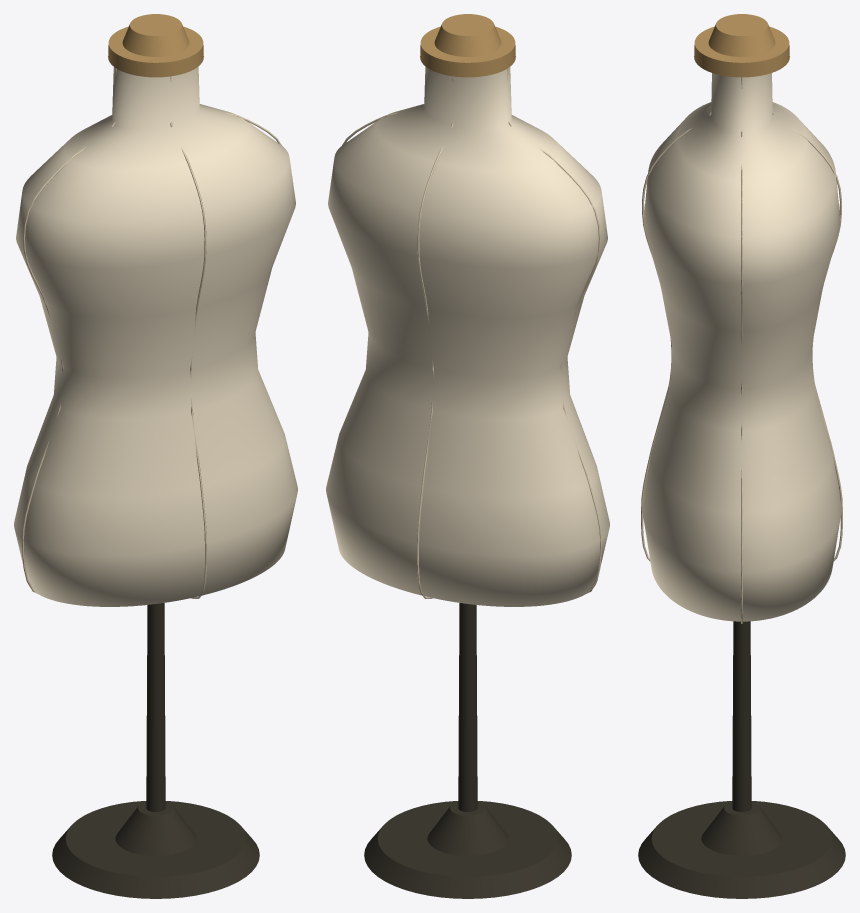
File: atelier-dress-form.glb
3 views of the same model, side by side, from view 1: azimuth 30°, elevation 25°; view 2: azimuth 150°, elevation 25°; view 3: azimuth 270°, elevation 25° (orthographic).
Parts seen in each view (by area): view 1: atelier-dress-form-body, atelier-dress-form-stand, atelier-dress-form-cap, atelier-dress-form-seams; view 2: atelier-dress-form-body, atelier-dress-form-stand, atelier-dress-form-cap, atelier-dress-form-seams; view 3: atelier-dress-form-body, atelier-dress-form-stand, atelier-dress-form-cap, atelier-dress-form-seams.
Boxes of the visible parts, x1,y1,x2,y2 form: atelier-dress-form-body: [14, 66, 297, 606]; atelier-dress-form-stand: [52, 603, 259, 898]; atelier-dress-form-cap: [108, 14, 203, 77]; atelier-dress-form-seams: [22, 68, 281, 598]; atelier-dress-form-body: [326, 66, 609, 606]; atelier-dress-form-stand: [364, 603, 571, 898]; atelier-dress-form-cap: [420, 14, 515, 77]; atelier-dress-form-seams: [342, 68, 601, 598]; atelier-dress-form-body: [642, 73, 841, 621]; atelier-dress-form-stand: [638, 621, 845, 898]; atelier-dress-form-cap: [694, 14, 789, 77]; atelier-dress-form-seams: [641, 77, 842, 623].
Size of the model in its own units: 0.685 by 2.03 by 0.46.
